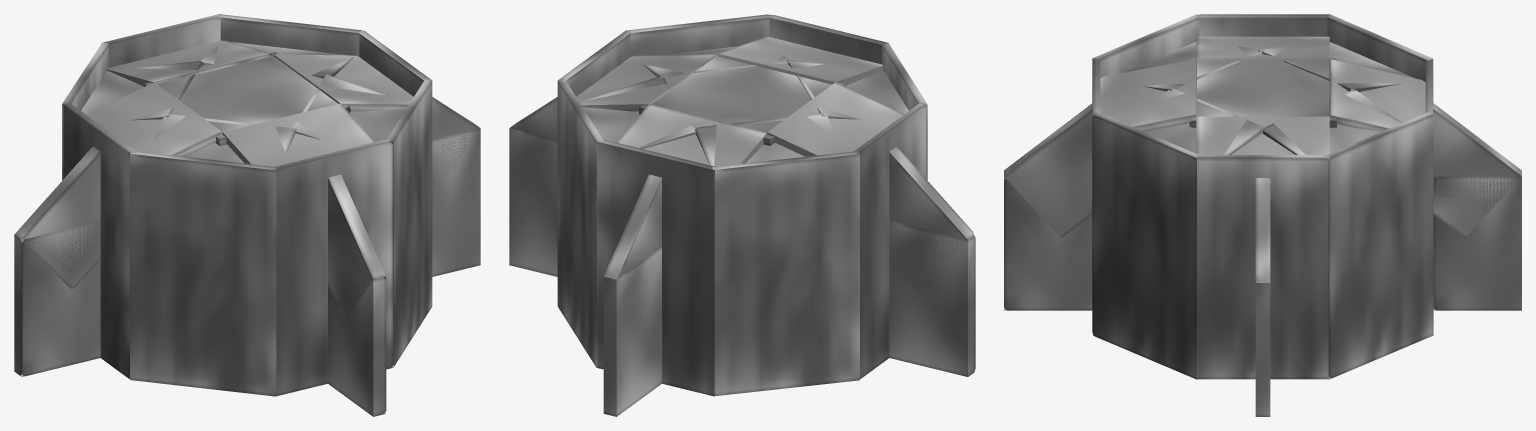
File: trunk_used.obj
The picture shows the model from 3 angles, left to right: view 1: azimuth 30°, elevation 25°; view 2: azimuth 150°, elevation 25°; view 3: azimuth 270°, elevation 25°; orthographic projection. The views are drawn at different scales.
Visible parts, largest first — view 1: Rocket; view 2: Rocket; view 3: Rocket.
Part boxes in pixels (x1,y1,x2,y2): Rocket: (14, 14, 480, 416); Rocket: (509, 14, 975, 416); Rocket: (1004, 14, 1521, 416).
Size of the model in its own units: 4.38 by 2.06 by 4.38.
